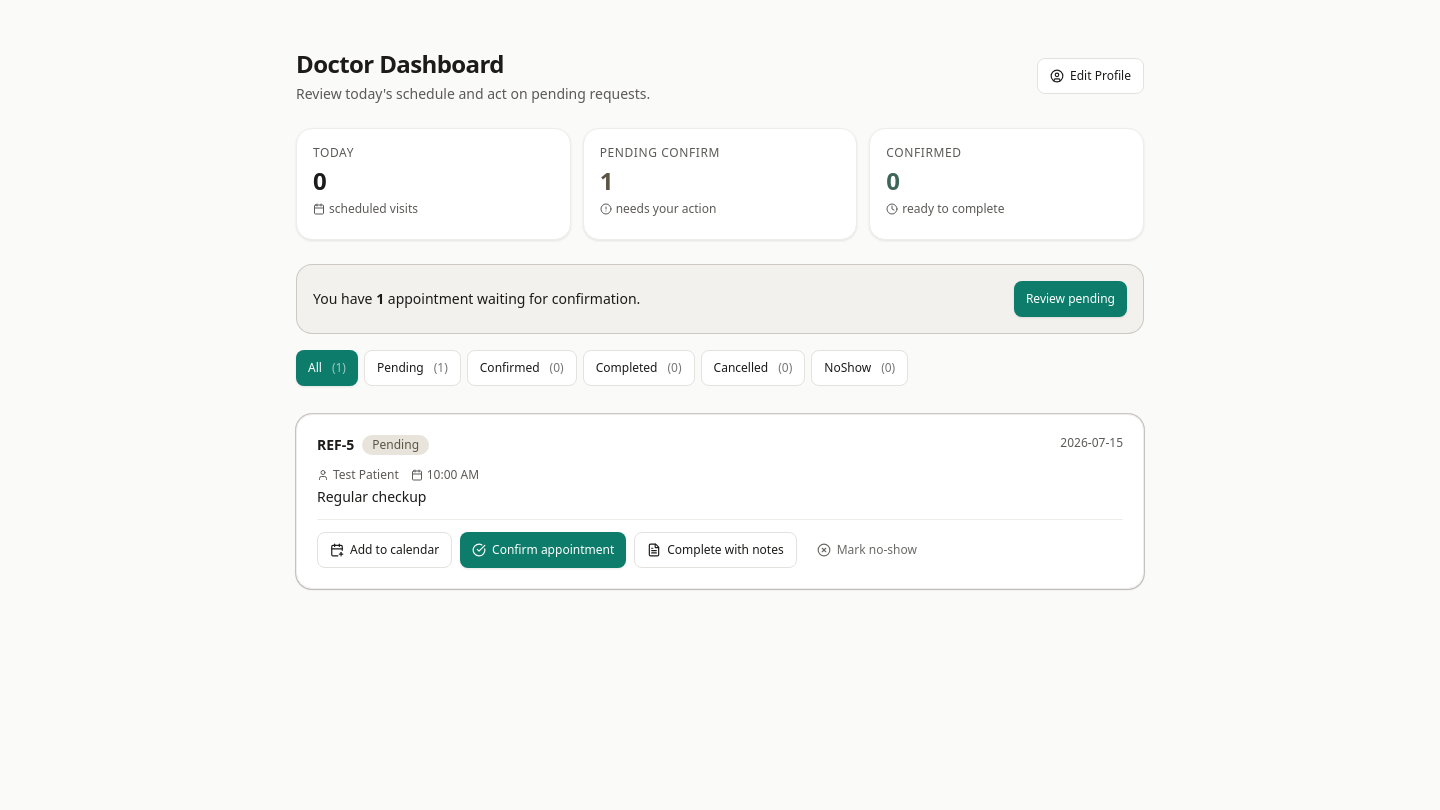
Test case: DoctorDashboardPage › dashboard mode (with doctorId from JWT) › complete modal › rejects short doctor notes
Check: the text "REF-5" is shown, box [317,435,354,455]
Click the button "Complete with notes" at {"x": 715, "y": 550}, box [634,532,797,568]
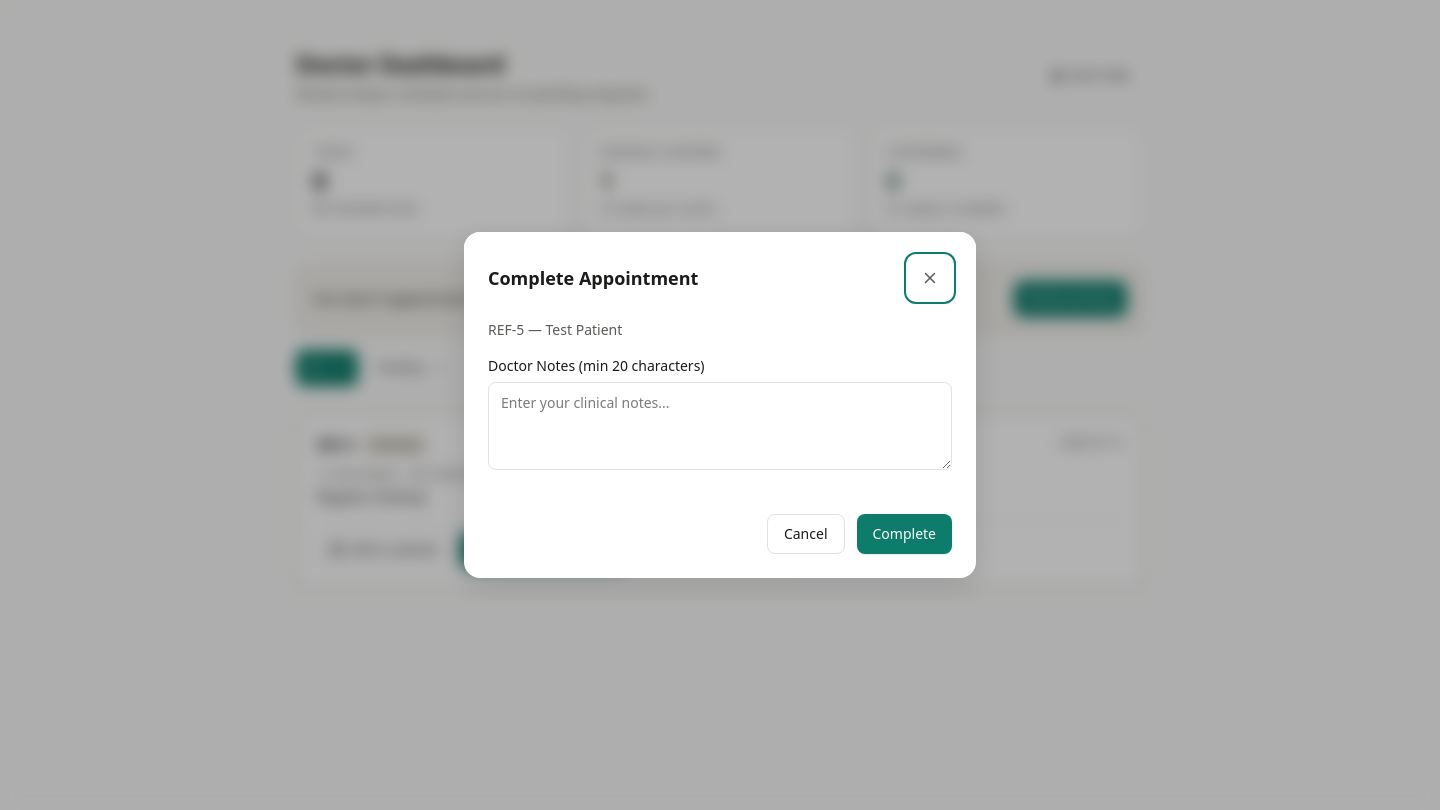
Type "Short" into the text box with placeholder "Enter your clinical notes..." at {"x": 720, "y": 426}, box [488,382,952,470]
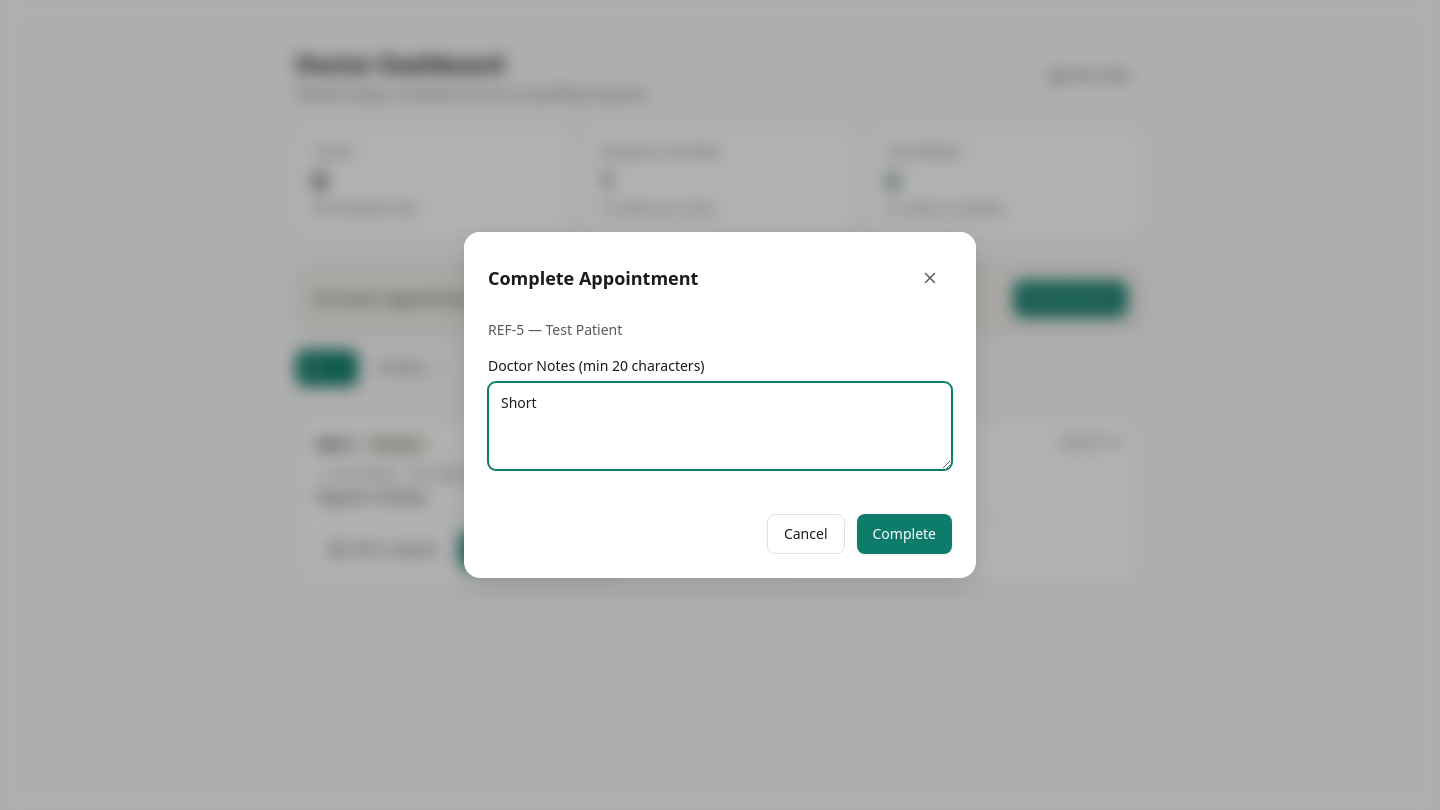
Click the button "Complete" at {"x": 904, "y": 534}, box [856,514,952,554]
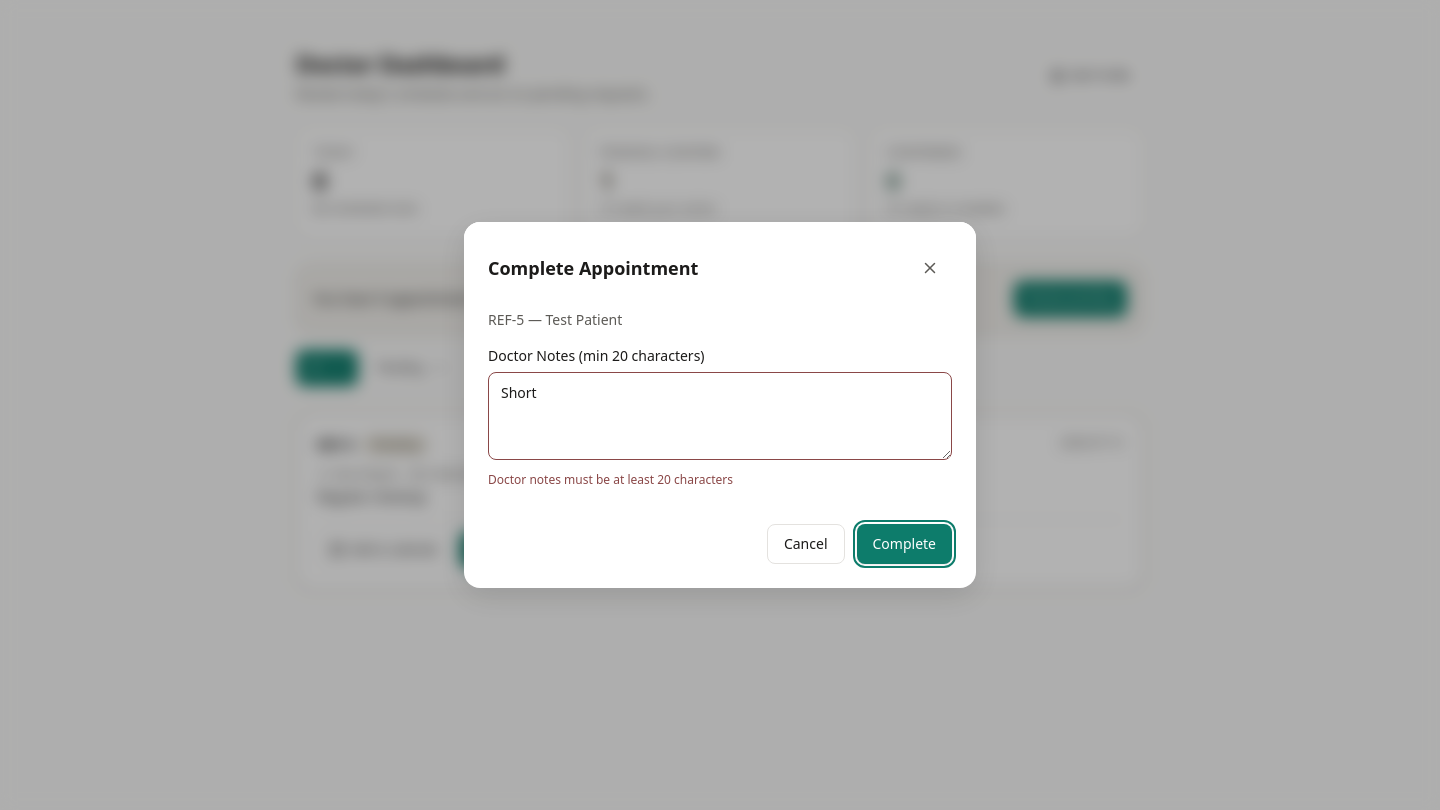
Check: the text "Doctor notes must be at least 20 characters" is shown, box [488,471,733,488]
